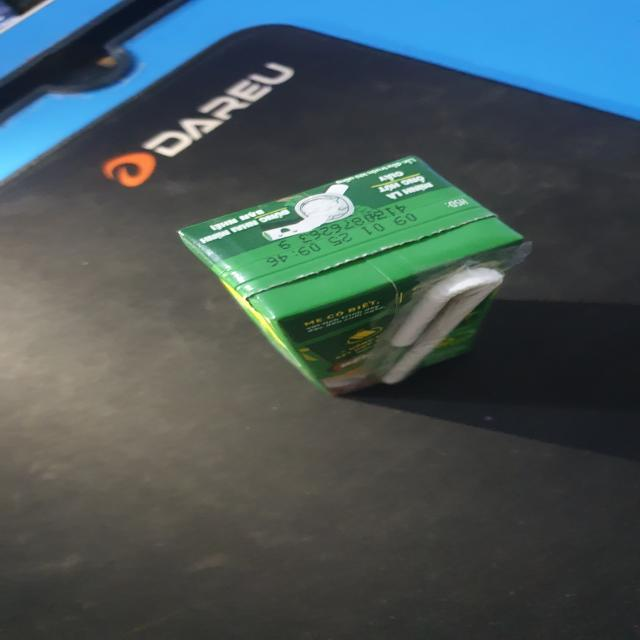Milo: (173, 153, 537, 405)
